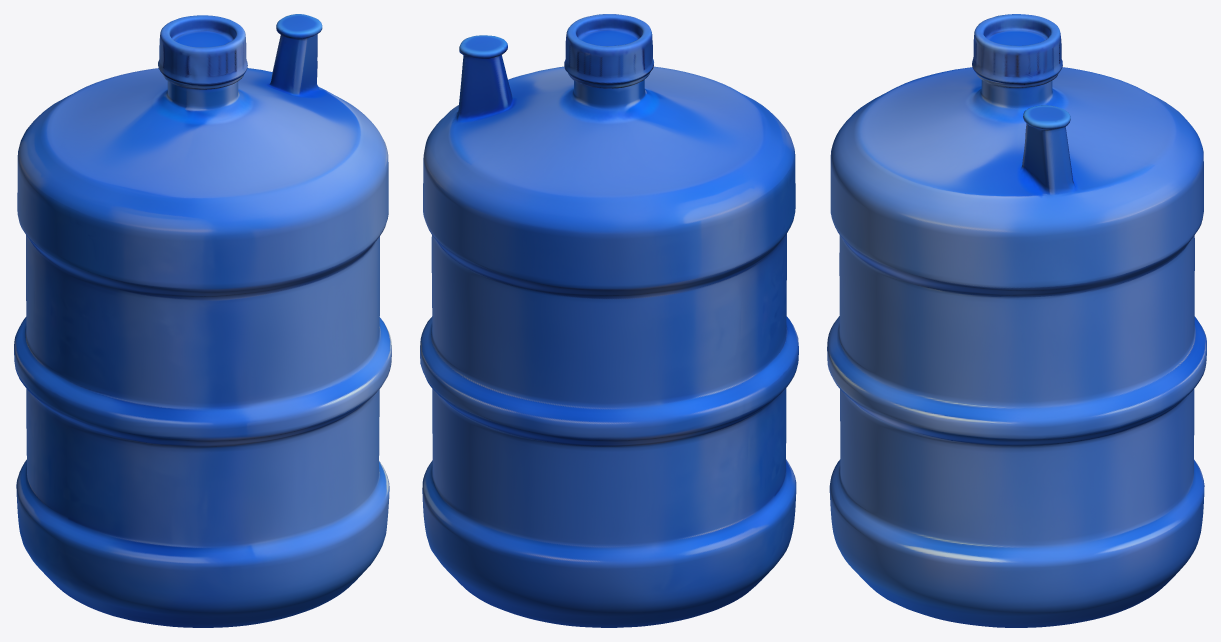
Rendered from galon-rodin.glb.
3 renders of one model, left to right at view 1: azimuth 30°, elevation 25°; view 2: azimuth 150°, elevation 25°; view 3: azimuth 270°, elevation 25°, orthographic.
Parts seen in each view (by area): view 1: model; view 2: model; view 3: model.
Boxes of the visible parts, x1,y1,x2,y2 form: model: (14,14,391,627); model: (420,14,798,627); model: (827,14,1206,627).
Size of the model in its own units: 1.12 by 1.78 by 1.13.
1 material, 1 textured.
